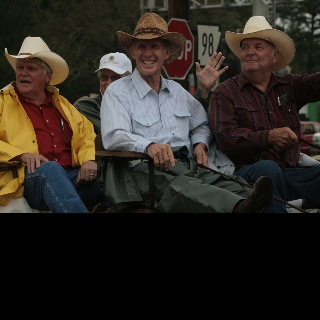without_mask: (240, 37, 274, 73), (134, 38, 166, 75), (16, 58, 47, 94)
